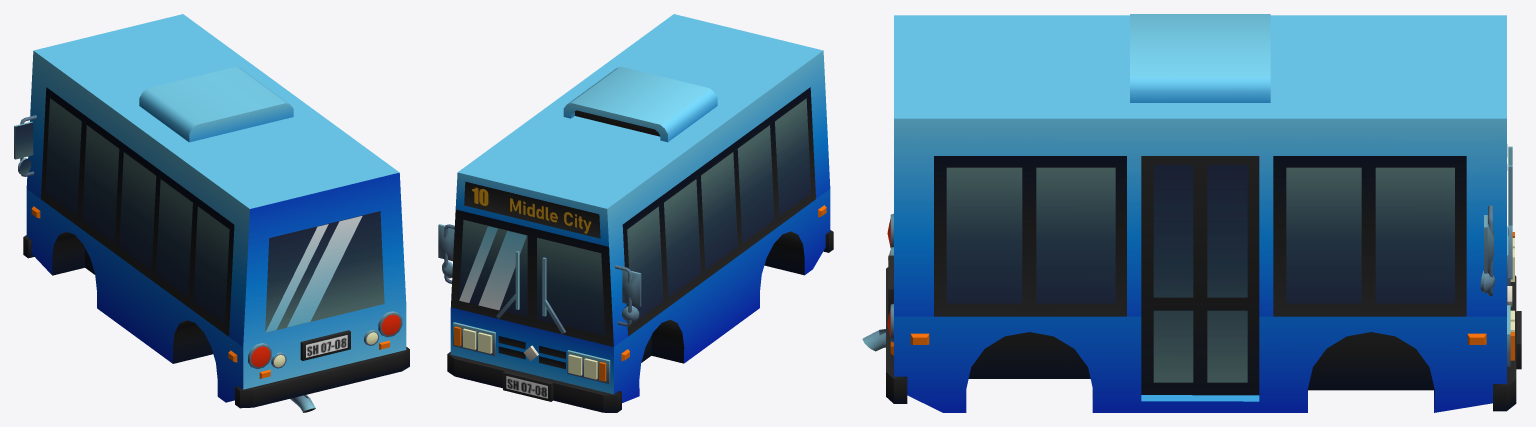
File: car14.glb
The picture shows the model from 3 angles, left to right: view 1: azimuth 30°, elevation 25°; view 2: azimuth 150°, elevation 25°; view 3: azimuth 270°, elevation 25°; orthographic projection. The views are drawn at different scales.
Parts seen in each view (by area): view 1: model_6.003; view 2: model_6.003; view 3: model_6.003.
Boxes of the visible parts, x1=… form: model_6.003: x1=14, y1=14, x2=409, y2=412; model_6.003: x1=438, y1=14, x2=833, y2=412; model_6.003: x1=862, y1=14, x2=1521, y2=412.
Bounding box in the file's own units: 163 × 176 × 326.
Materials: 1 (1 with a texture image).
